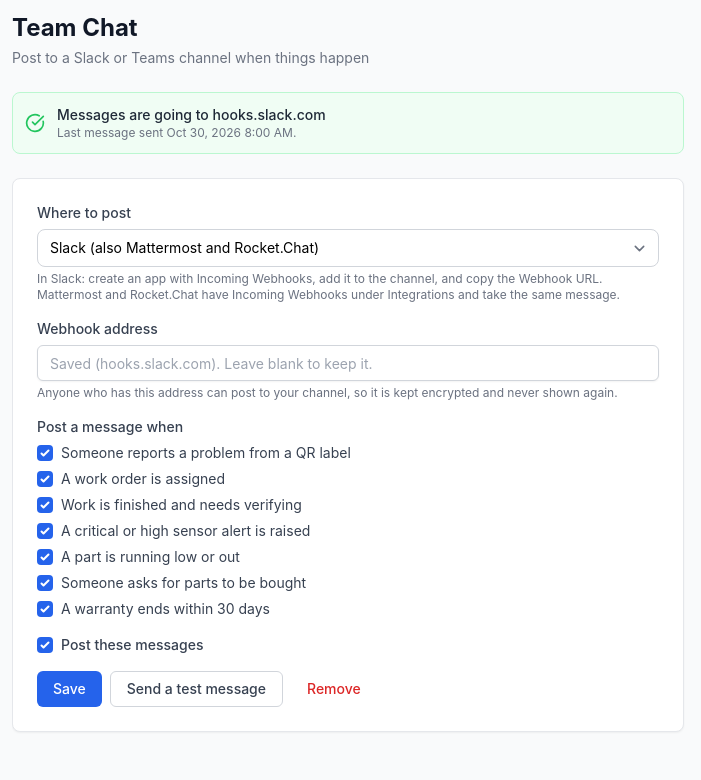
Test case: ChatSettingsPage › shows why a test failed, in the chat service's own terms
Click the button "Send a test message" at (196, 689), box left=110, top=671, right=283, bottom=707
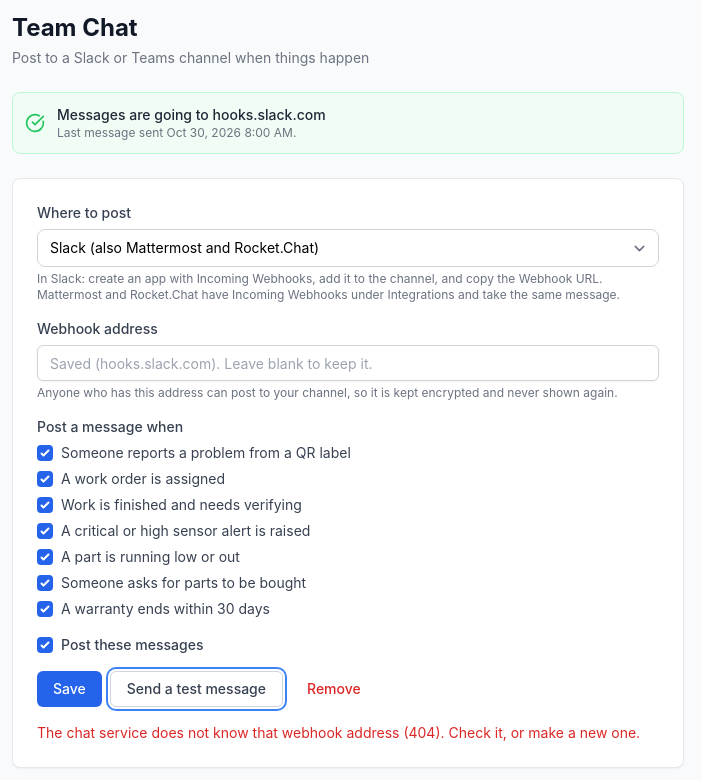
Now the message shows "does not know that webhook address", box left=37, top=724, right=640, bottom=741
